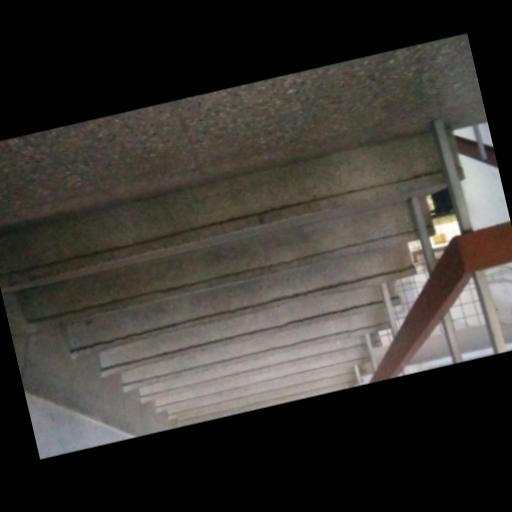stairs: (0, 134, 441, 424)
